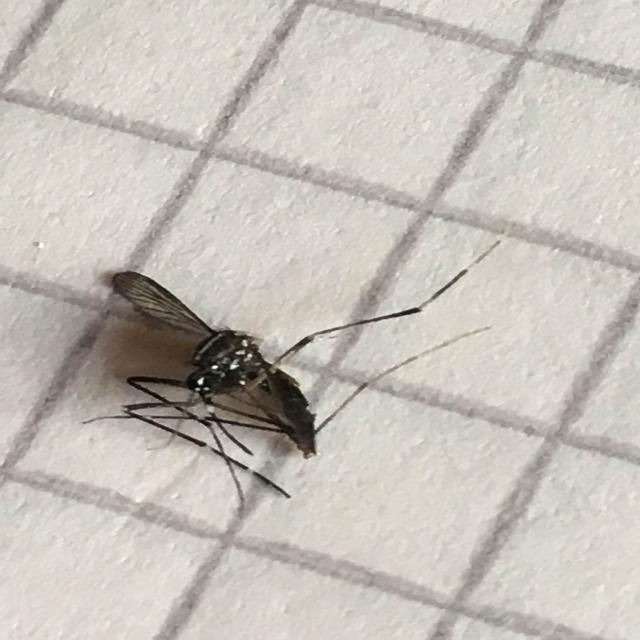albopictus: (70, 230, 512, 506)
